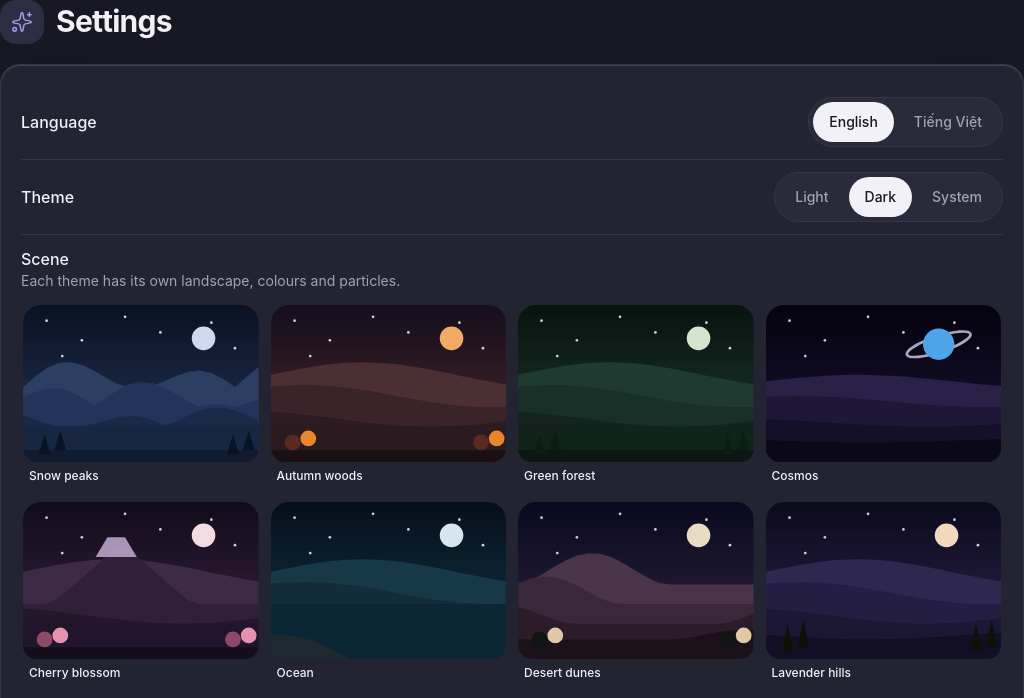
Test: SettingsPage › picking a themed scene sets data-bg and marks it chosen
Click the button "Ocean" at coordinates (388, 594), box [268,500,508,689]
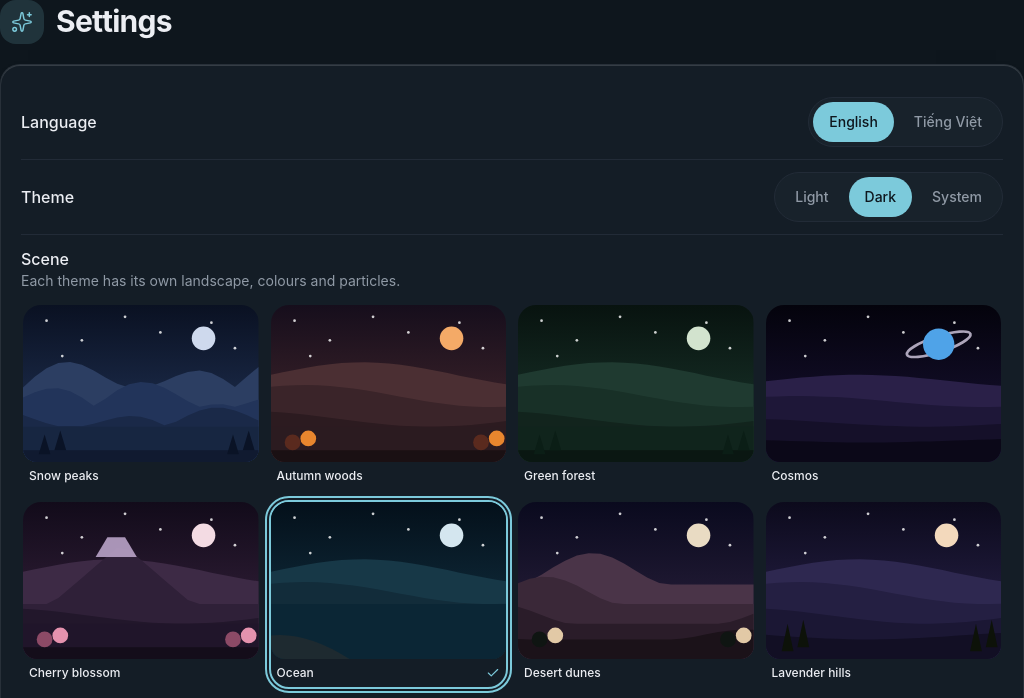
Expected: the button "Ocean" is pressed, [268,500,508,689]
